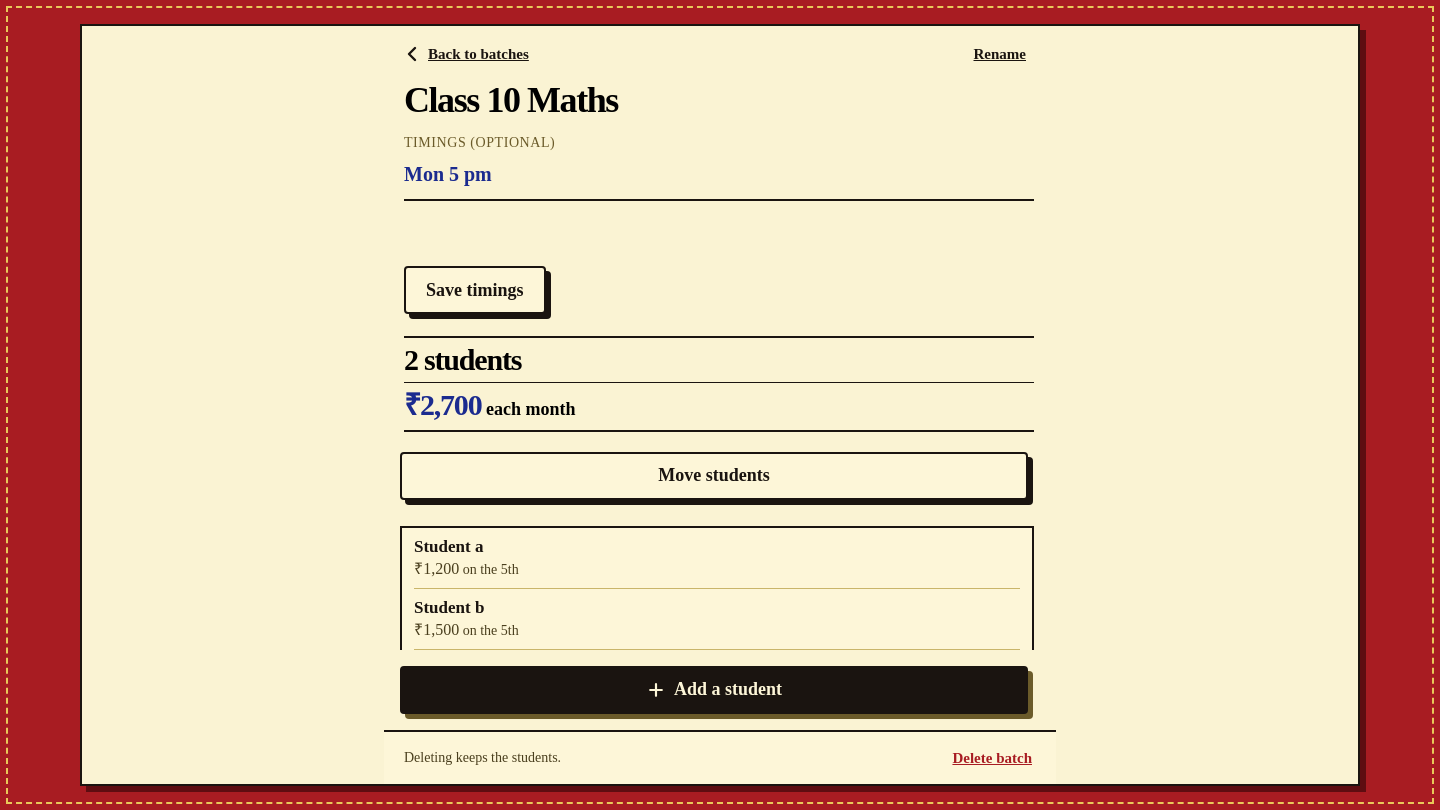
it: delete (45) › asks first, says how many students stay, and Cancel changes nothing
The width and height of the screenshot is (1440, 810).
Click the button "Delete batch" at (992, 758), box x1=948 y1=736 x2=1036 y2=780
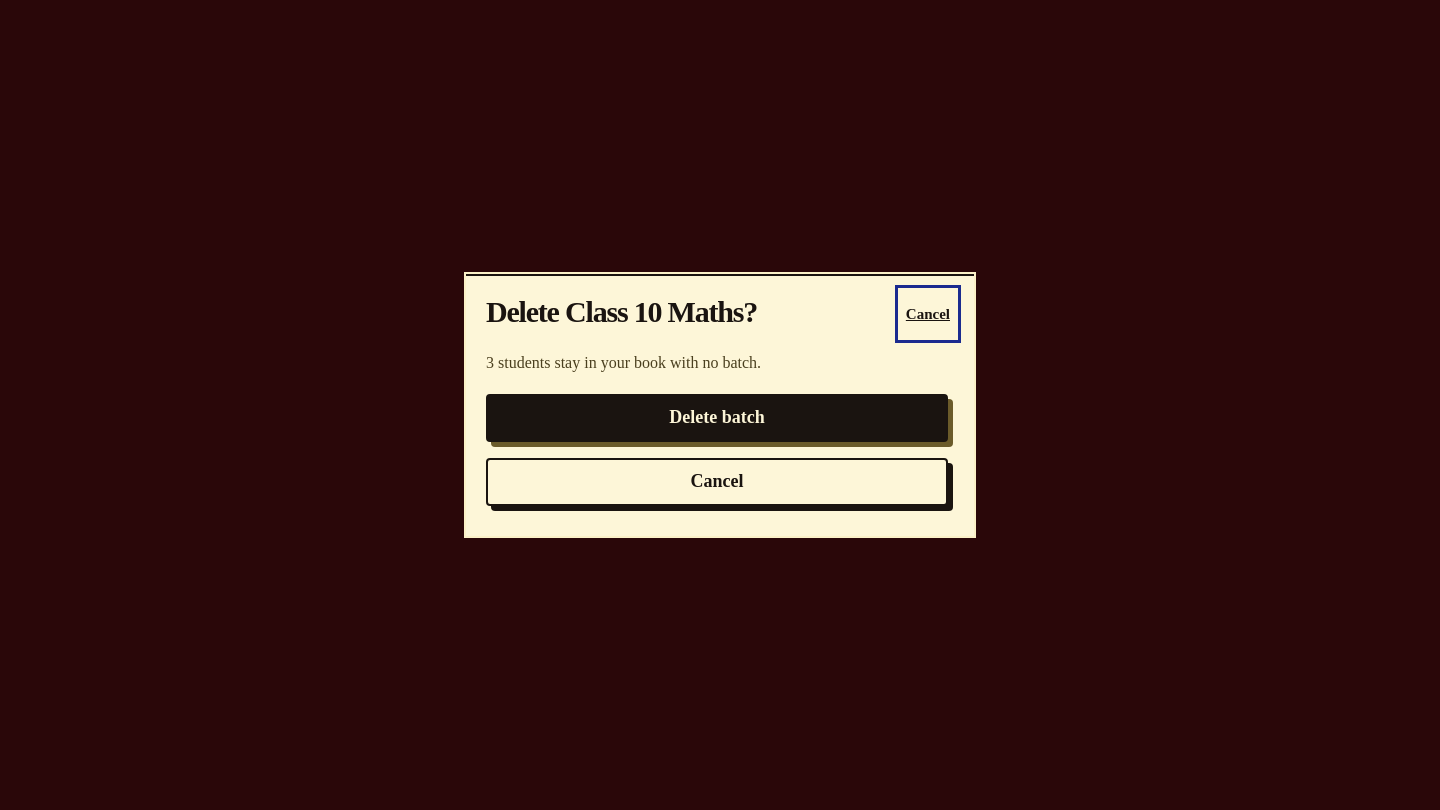
Expected: the text "Delete Class 10 Maths?" is shown, x1=486 y1=295 x2=757 y2=328
Expected: the text "3 students stay in your book with no batch." is shown, x1=486 y1=354 x2=761 y2=371
Click the 2nd button "Cancel" at (717, 482), box x1=486 y1=458 x2=948 y2=506
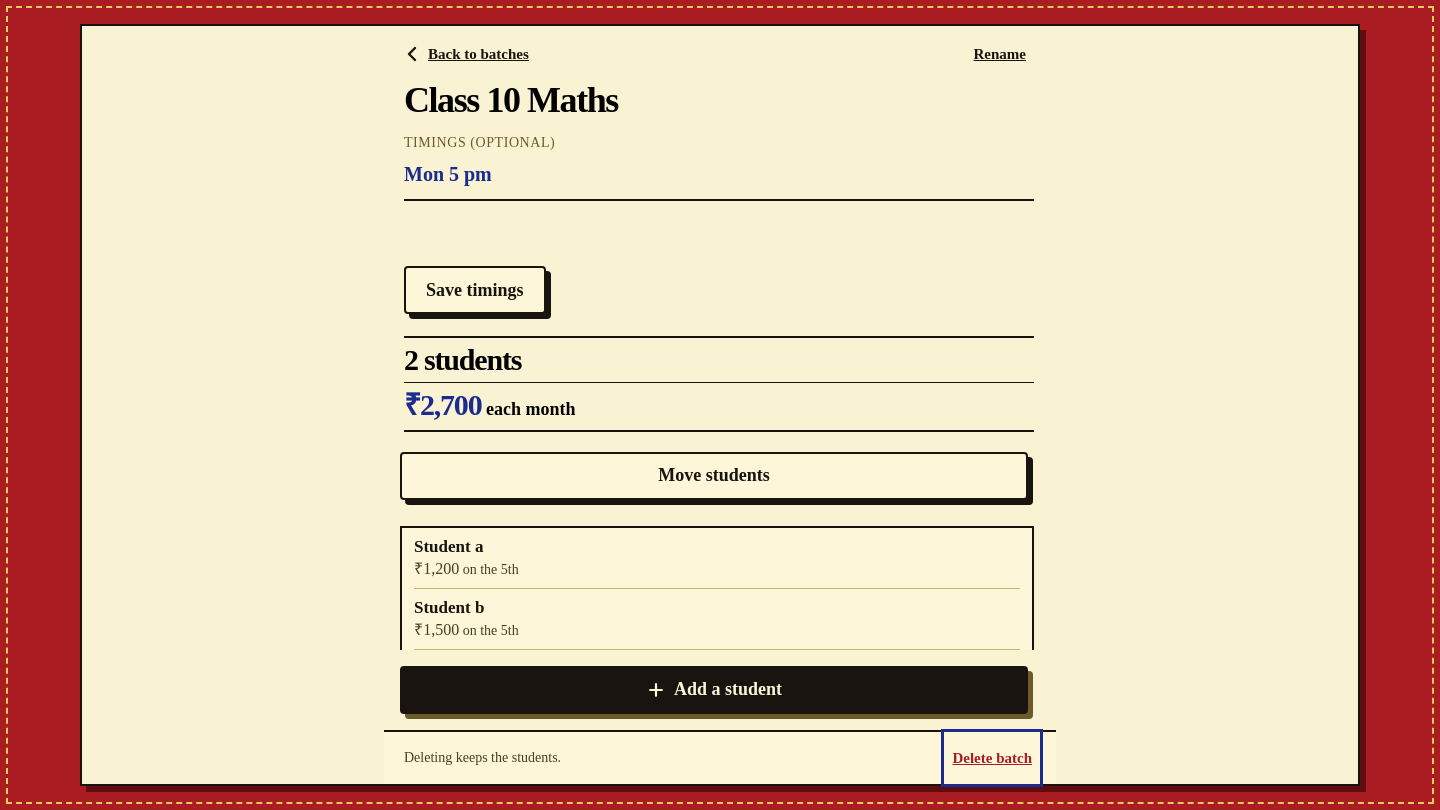
Expected: the dialog is gone
